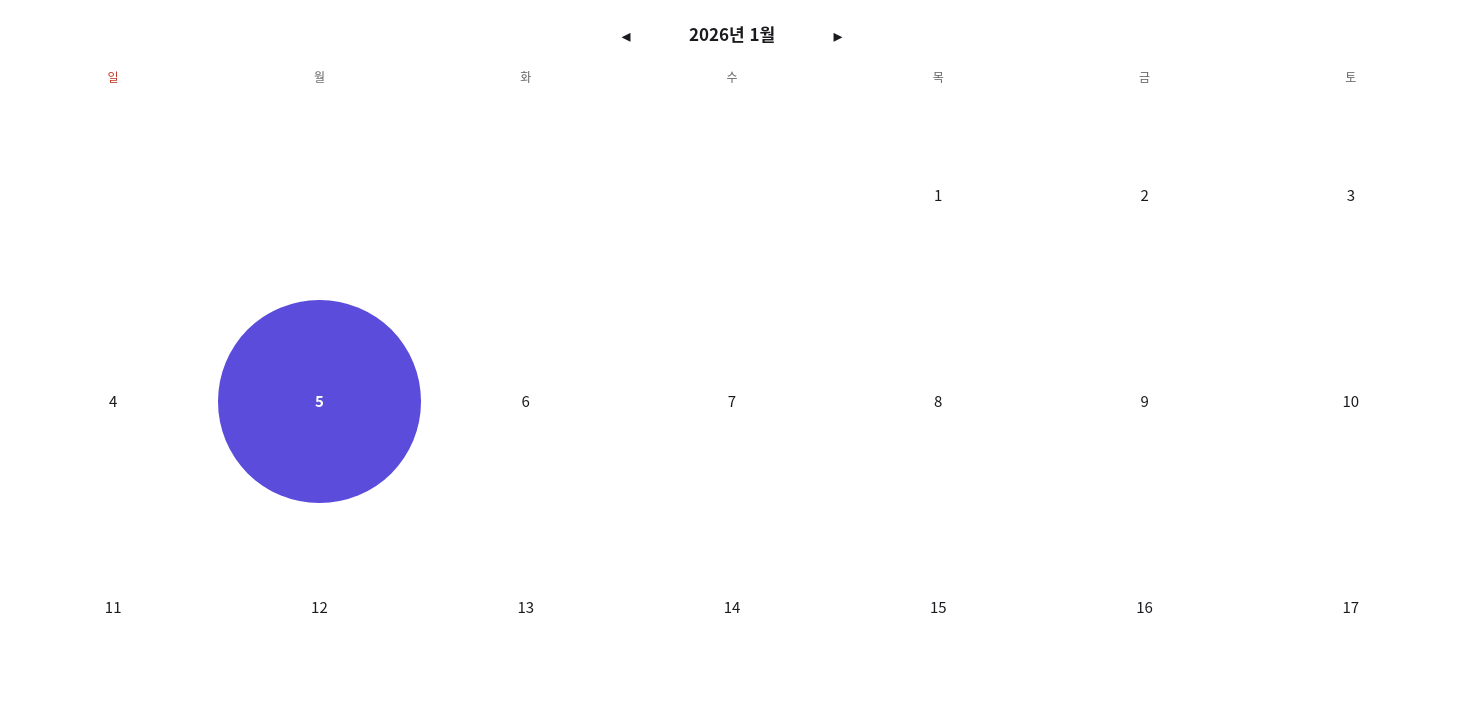
it: 날짜 달력 (U0-11) › 연도를 넘어 달 넘기기
What coordinates should you click on to do the following:
click the button named "지난달"
I would click on:
 (626, 34)
Its box is left=604, top=12, right=648, bottom=56.
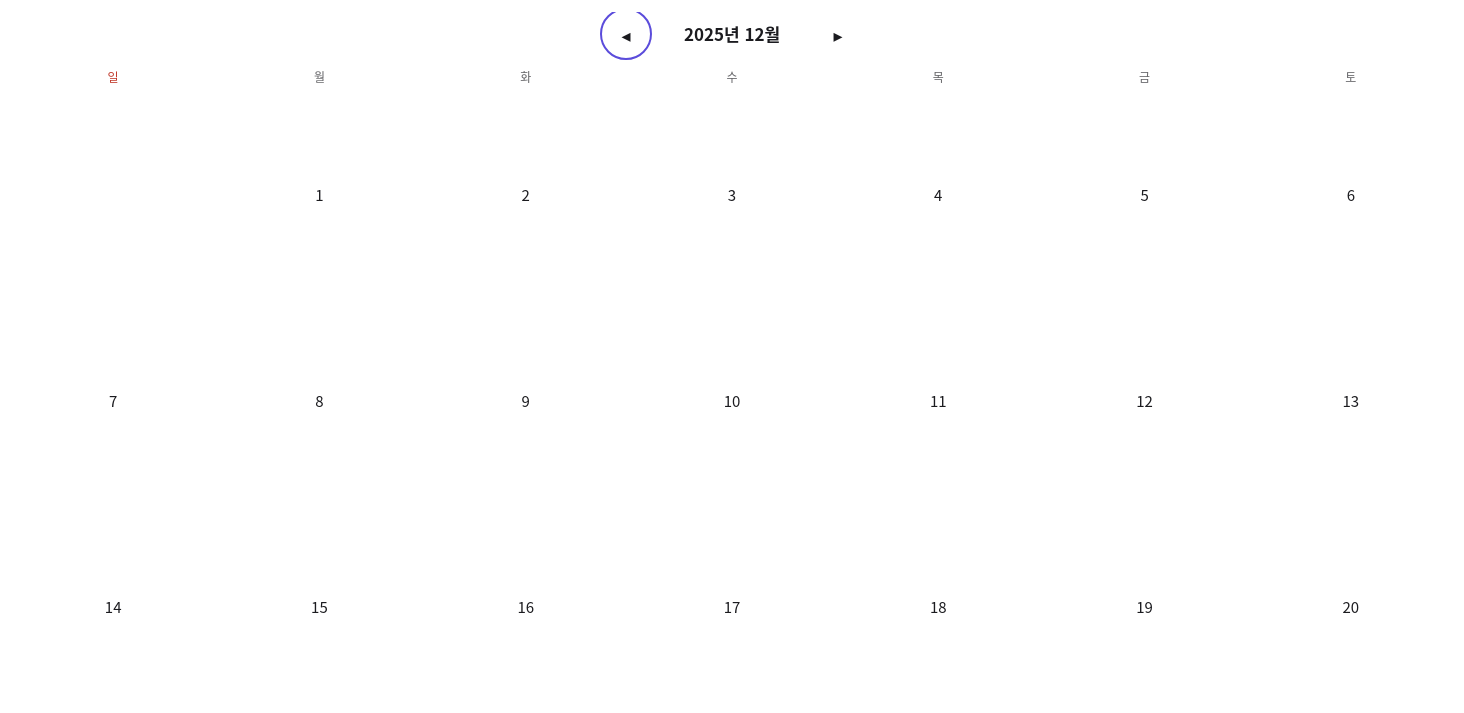
Result: the text "2025년 12월" is shown at left=684, top=21, right=780, bottom=46
